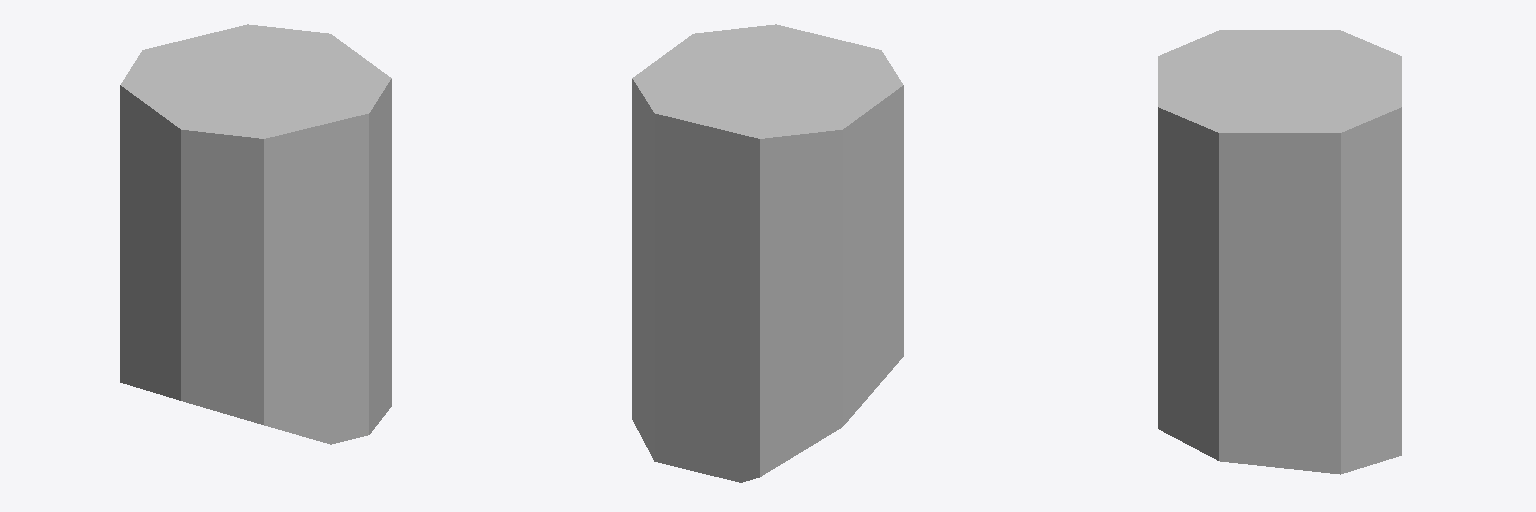
File: fuel_debris.obj
The picture shows the model from 3 angles: view 1: azimuth 30°, elevation 25°; view 2: azimuth 150°, elevation 25°; view 3: azimuth 270°, elevation 25°; orthographic projection.
Visible parts, largest first — view 1: Rods; view 2: Rods; view 3: Rods.
Part boxes in pixels (x1,y1,x2,y2): Rods: (120, 24, 391, 444); Rods: (632, 24, 903, 482); Rods: (1158, 30, 1401, 474).
Size of the model in its own units: 0.25 by 0.3955 by 0.25.